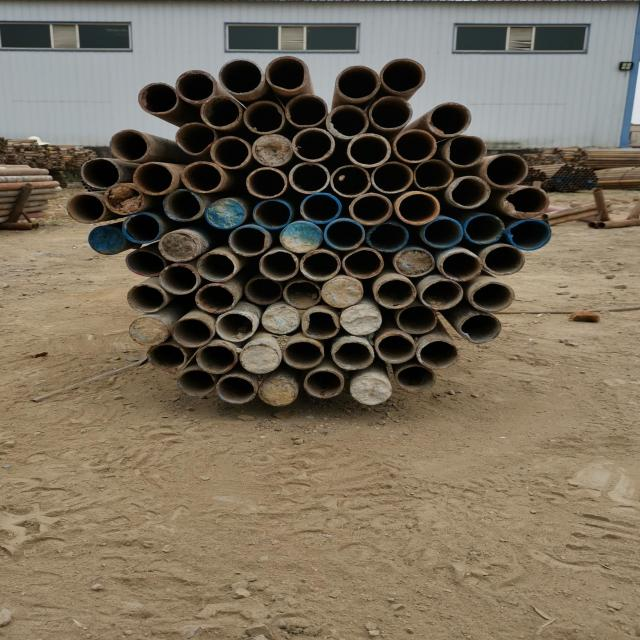pipe: (218, 58, 265, 96), (334, 65, 381, 102), (426, 101, 472, 138), (379, 58, 426, 94), (345, 133, 392, 168), (264, 55, 308, 92), (368, 95, 413, 131), (503, 185, 550, 219), (325, 104, 369, 140), (484, 153, 529, 188), (242, 100, 286, 135), (292, 127, 336, 162), (392, 129, 437, 163), (175, 69, 218, 104), (285, 93, 328, 128), (199, 96, 243, 130), (208, 136, 252, 170), (180, 160, 224, 194), (348, 192, 393, 225), (448, 175, 491, 209), (396, 192, 440, 225), (175, 122, 217, 156), (132, 162, 174, 196), (162, 188, 204, 222), (278, 222, 324, 253), (470, 281, 516, 312), (371, 161, 414, 194), (508, 219, 552, 251), (252, 133, 293, 167), (330, 164, 371, 198), (137, 82, 179, 115), (445, 135, 487, 168), (299, 192, 342, 224), (341, 247, 384, 279), (482, 244, 525, 276), (439, 251, 483, 282), (339, 305, 383, 336), (416, 338, 460, 369), (109, 129, 150, 162), (288, 162, 330, 194), (103, 183, 145, 215), (204, 198, 246, 230), (323, 218, 365, 250), (299, 250, 341, 282), (374, 278, 417, 309), (420, 279, 463, 310), (80, 158, 121, 190), (246, 167, 287, 199), (413, 158, 454, 190), (463, 214, 505, 245), (194, 283, 236, 314), (459, 313, 501, 344), (238, 343, 280, 374), (366, 222, 409, 252), (195, 344, 238, 374), (331, 341, 374, 371), (66, 192, 106, 224), (252, 198, 292, 230), (122, 212, 162, 244), (158, 231, 199, 262), (258, 250, 299, 281), (158, 264, 199, 295), (214, 312, 255, 343), (375, 333, 416, 364), (321, 278, 363, 308), (170, 318, 212, 348), (146, 342, 188, 372), (282, 340, 324, 370), (392, 248, 435, 277), (228, 226, 268, 257), (422, 218, 463, 248), (196, 252, 237, 282), (128, 316, 169, 346), (396, 304, 437, 334), (303, 369, 344, 399), (394, 364, 436, 393), (349, 377, 392, 405), (216, 375, 256, 405), (257, 378, 298, 407), (125, 249, 167, 277), (126, 284, 166, 313), (282, 281, 322, 309), (260, 306, 300, 334), (303, 310, 340, 340), (88, 226, 126, 255), (177, 369, 216, 397), (244, 278, 282, 305)
